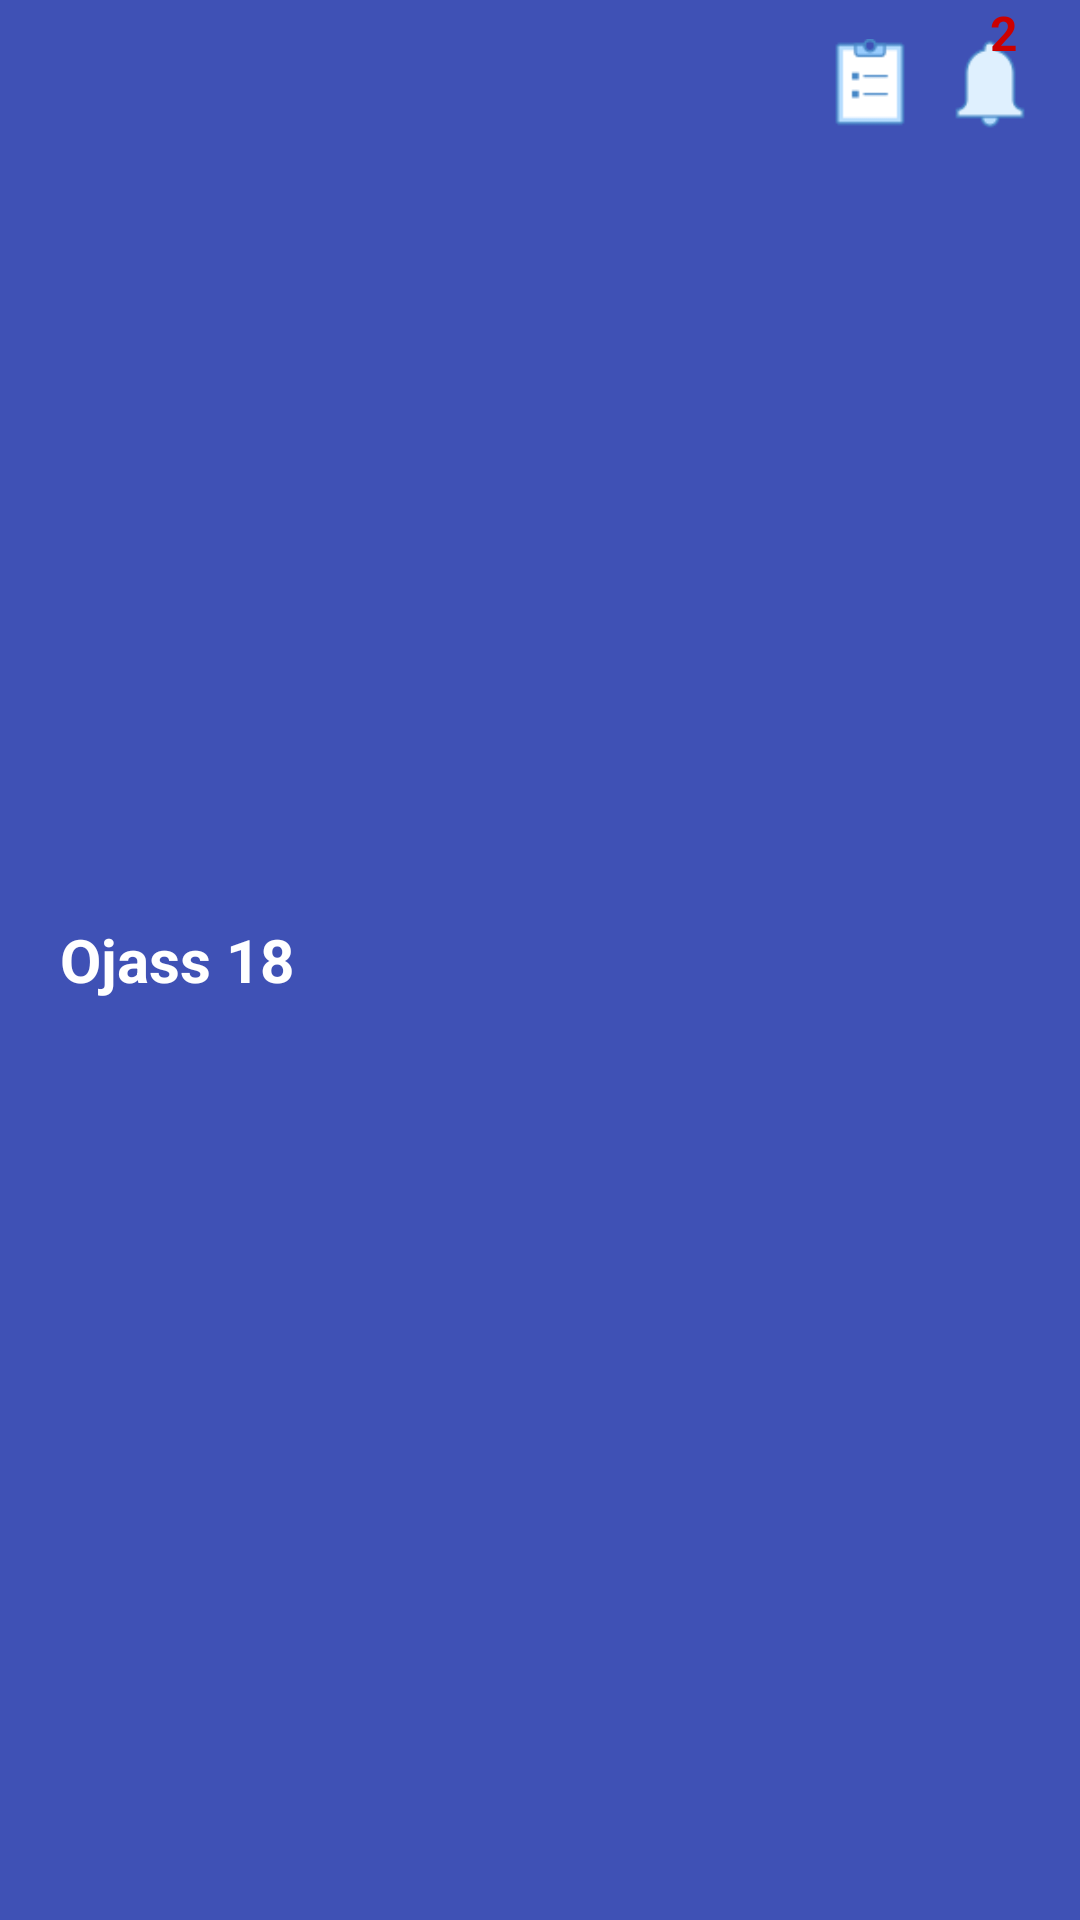

Where to tap for icons on this 1080w x 1920h app screen, as [x,y]:
iconnotification: [990,83]
